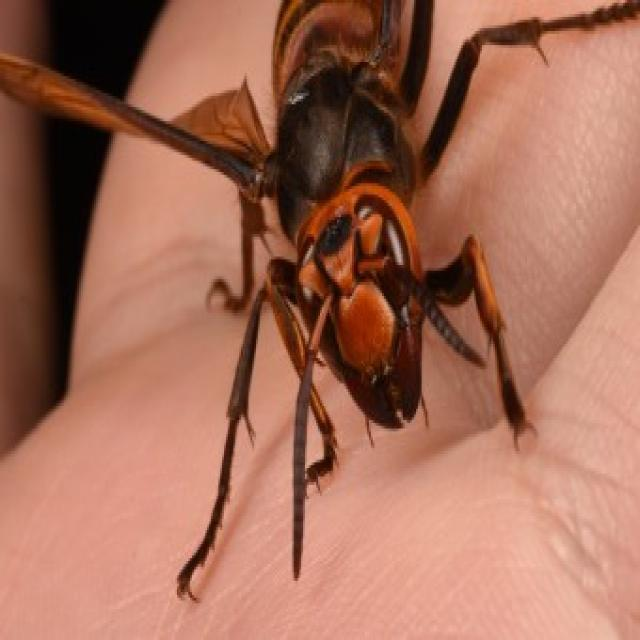Wasp: (3, 1, 634, 466)
